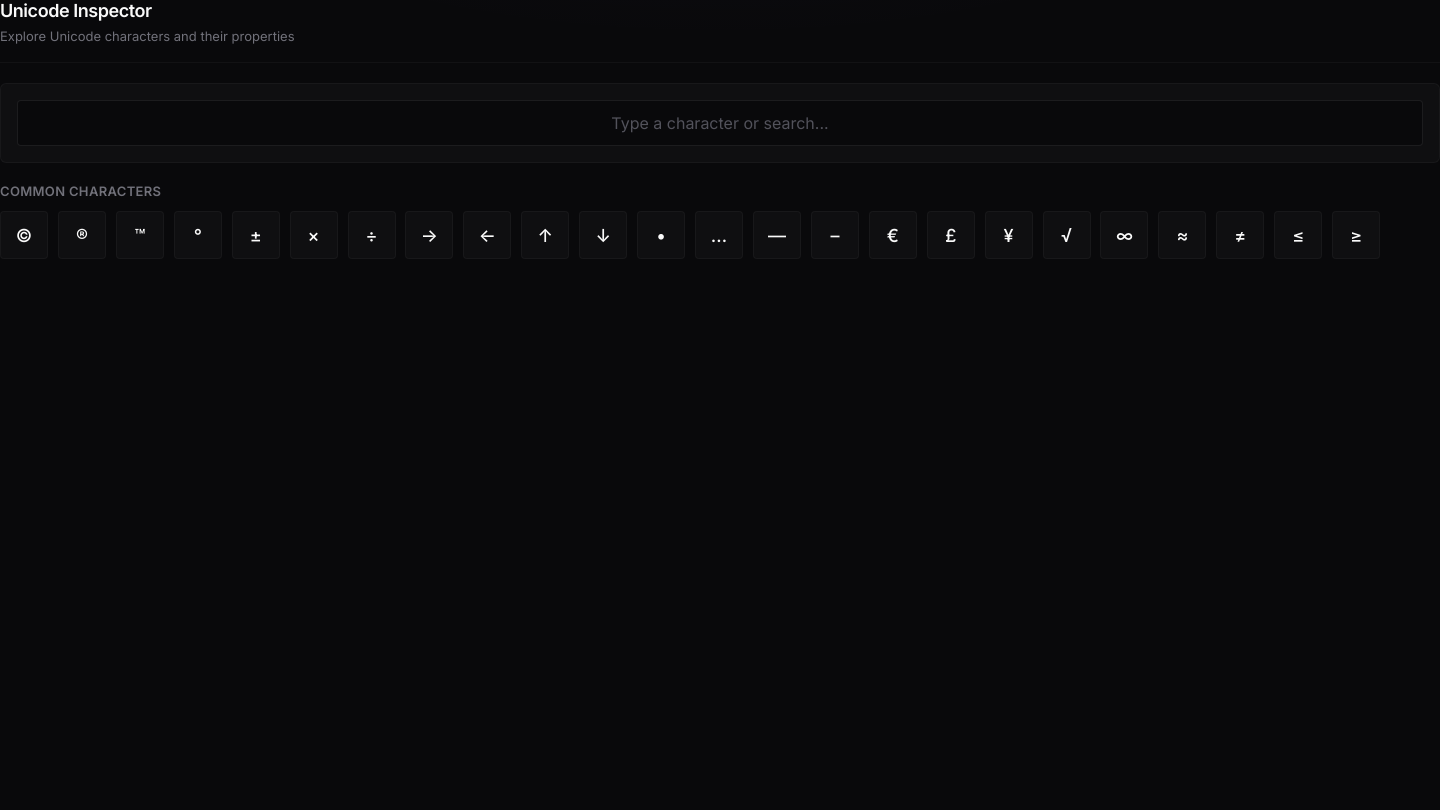
Scenario: UnicodeTool › should have copy buttons for characters
In the field with class "search-input": (720, 123) [17,100,1423,146], type "A"
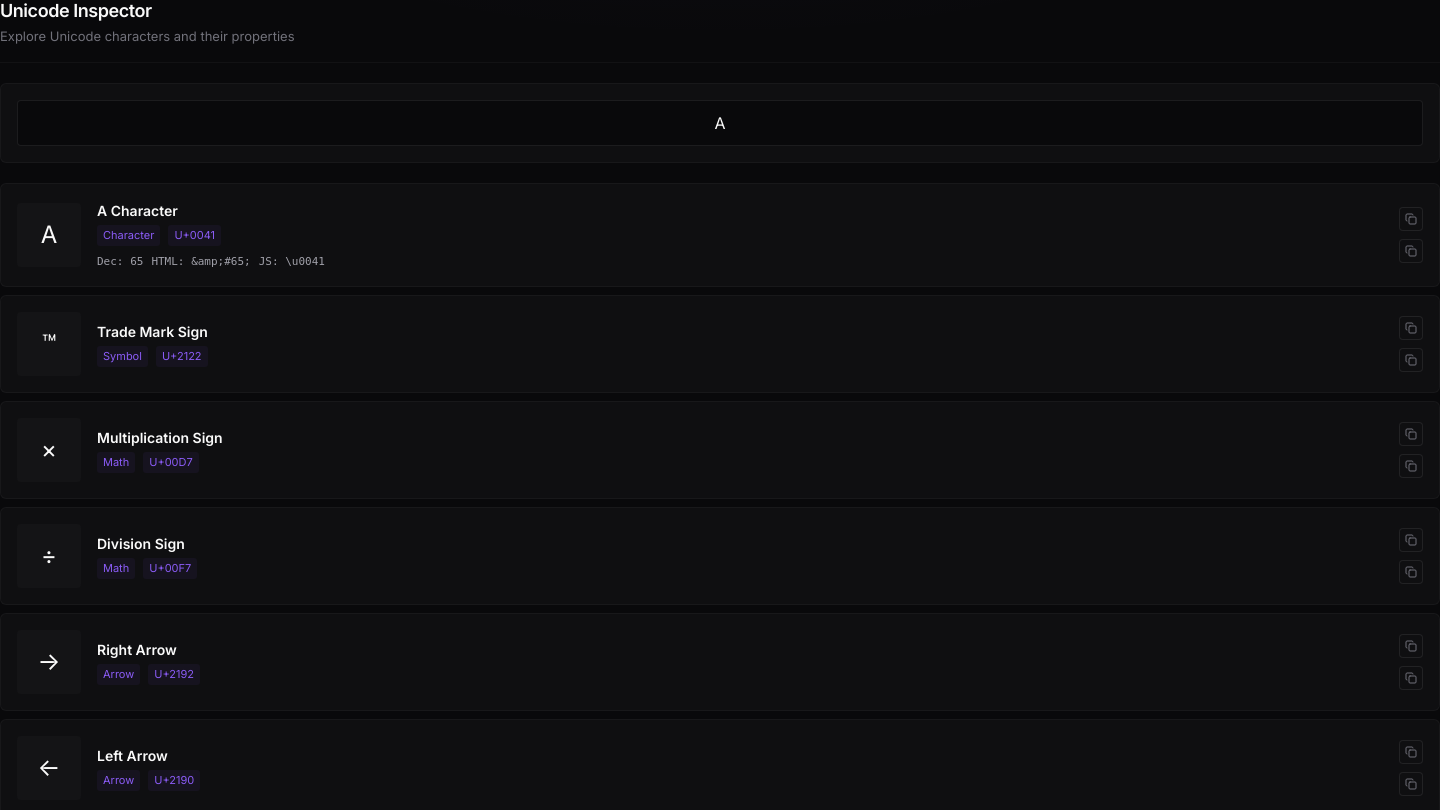
Expected: the 1st button with class "copy-btn" is shown, [1399,207,1423,231]
